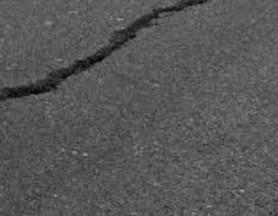crack: (4, 0, 200, 103)
